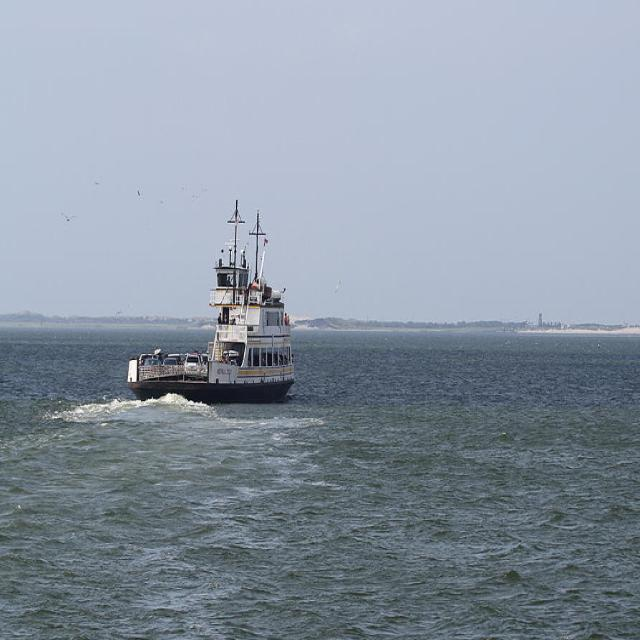cargoship: (127, 222, 295, 400)
